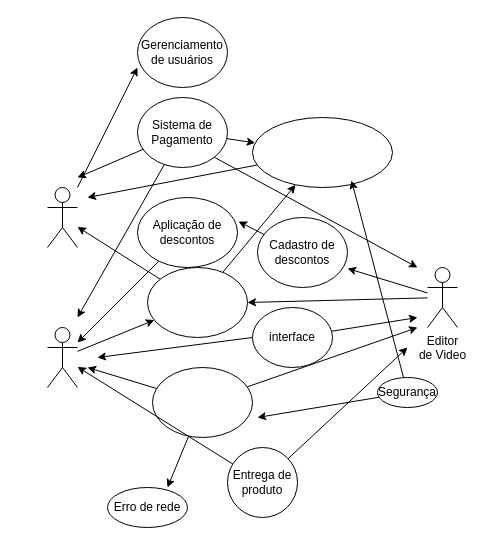
Some shapes in this 483 by 545 pixel diagram are drawn without their labels. The shapes that lost their labels are listed below. From the top down, each one's centre as x and y in pixels, then its label:
At (x=322, y=152): "Banco de dados".
At (x=62, y=217): "Administrador".
At (x=197, y=302): "Cadastro de usuário/editor".
At (x=62, y=357): "Usuário genérico".
At (x=202, y=402): "Live chat".
